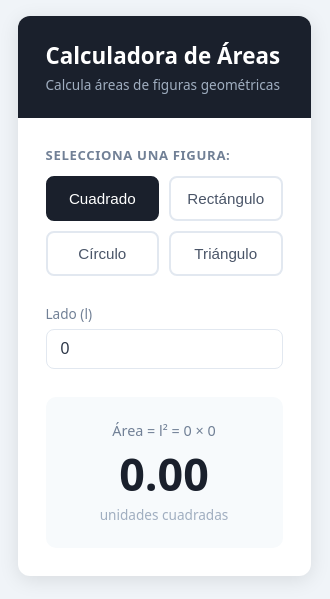
Test case: Calculadora de Áreas › debe mostrar la fórmula correcta del Círculo
The width and height of the screenshot is (330, 599).
Click the button "Círculo": (102, 254) [46,231,159,276]
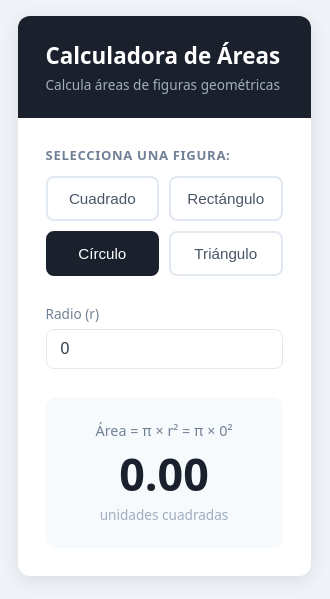
In the number field: (164, 349) [46,329,282,369], type "3"
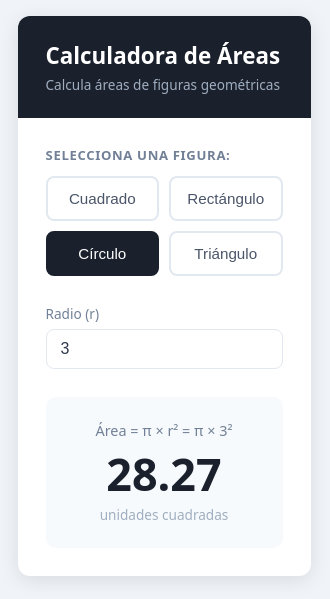
Expected: the text with class "formula" reads "Área = π × r² = π × 3²", [95,421,232,440]
